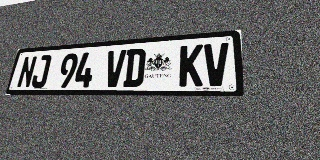4: (73, 52, 96, 87)
9: (57, 53, 79, 88)
D: (122, 48, 146, 87)
J: (30, 55, 52, 88)
K: (179, 44, 203, 86)
N: (16, 56, 38, 88)
V: (203, 42, 229, 86), (103, 50, 126, 87)
